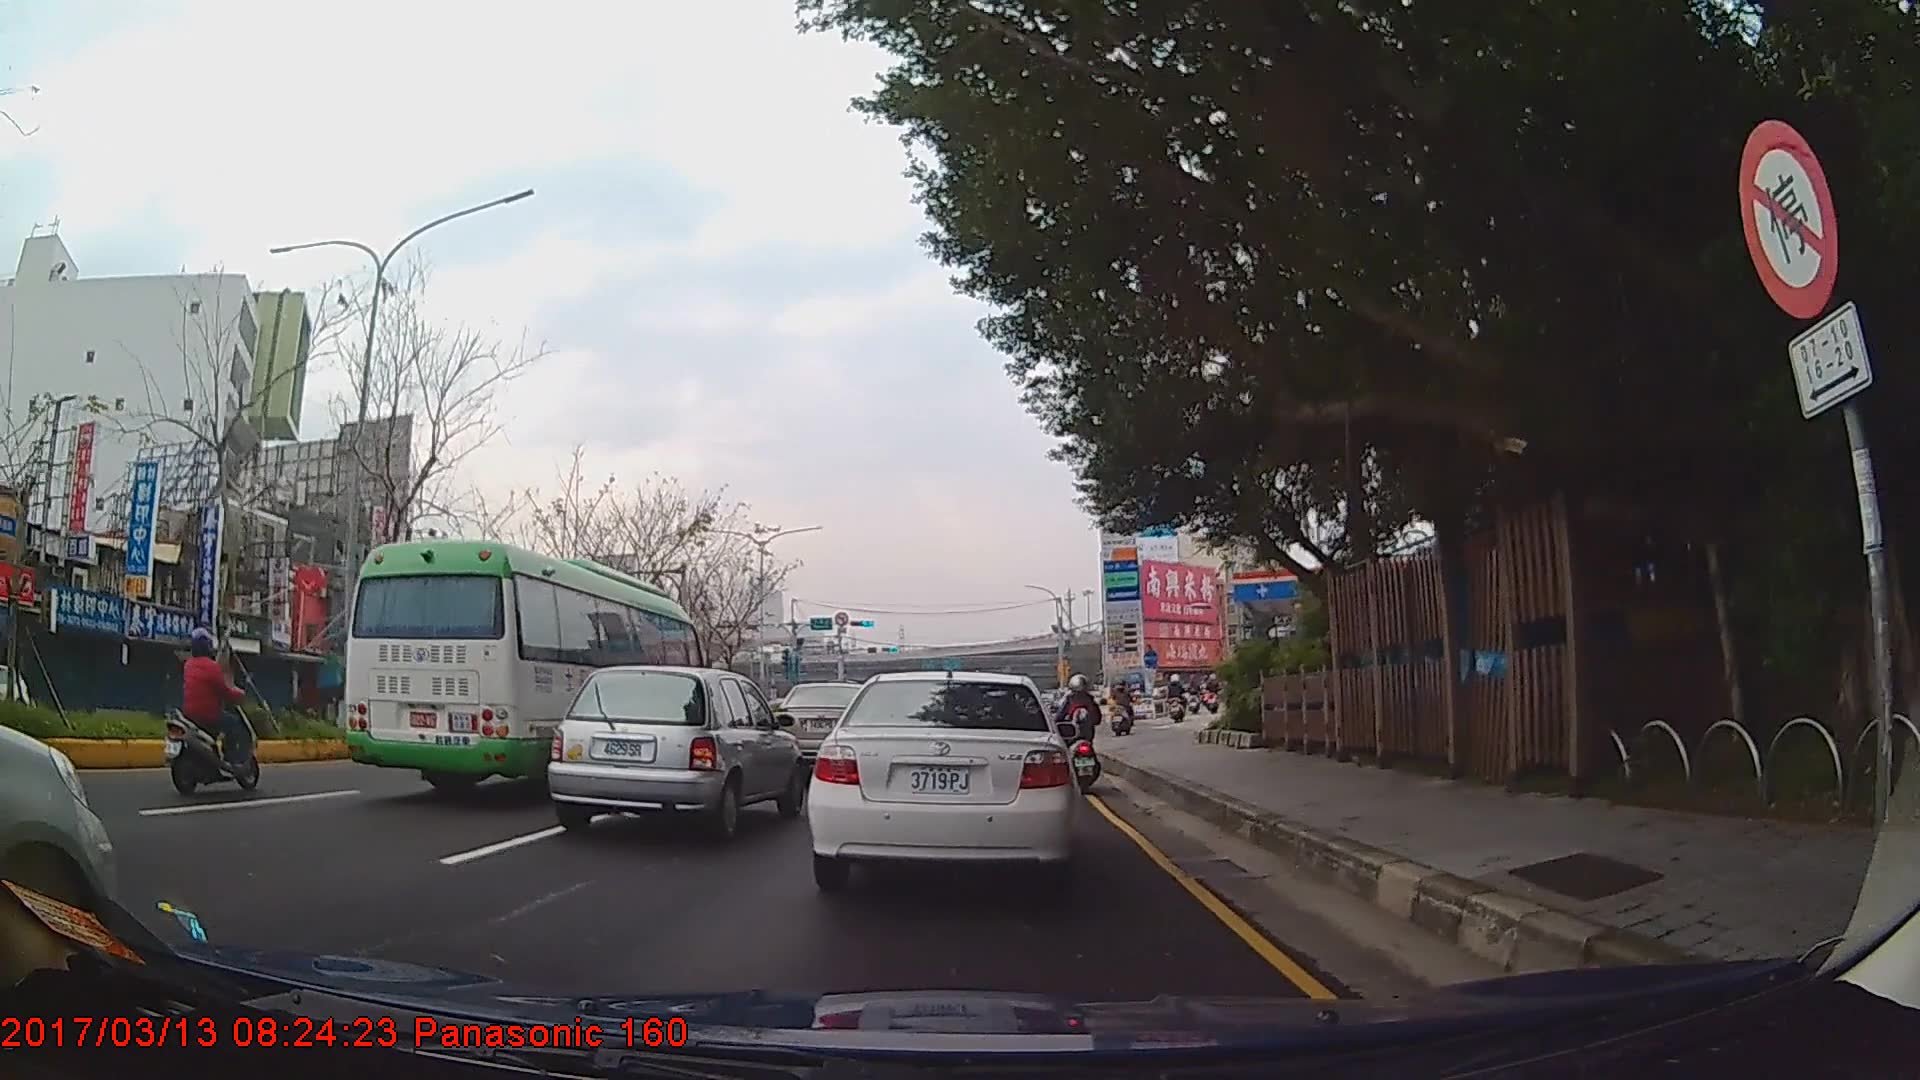rider: (167, 627, 265, 792), (1059, 671, 1102, 797), (1109, 674, 1138, 732), (1167, 674, 1188, 722)
vehicle: (344, 536, 706, 795), (806, 669, 1078, 894), (546, 661, 805, 837), (773, 679, 872, 770)
